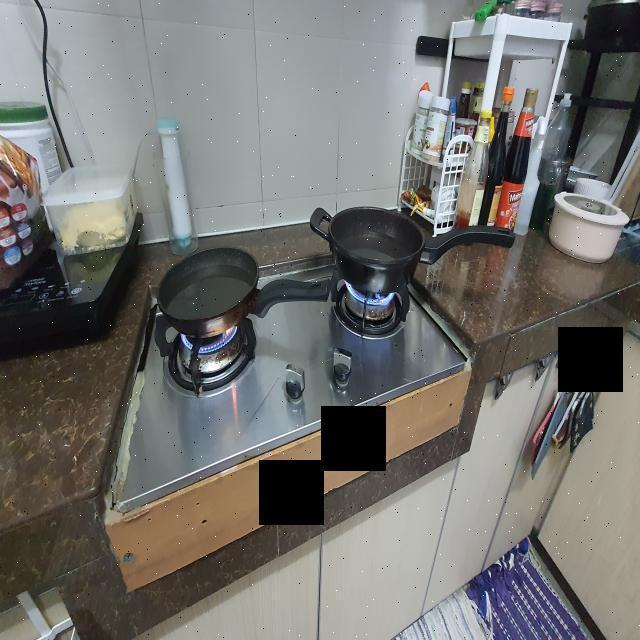Flame: (179, 328, 247, 358), (345, 278, 400, 313)
Pan: (306, 202, 518, 285), (148, 245, 337, 331), (538, 185, 633, 266)
